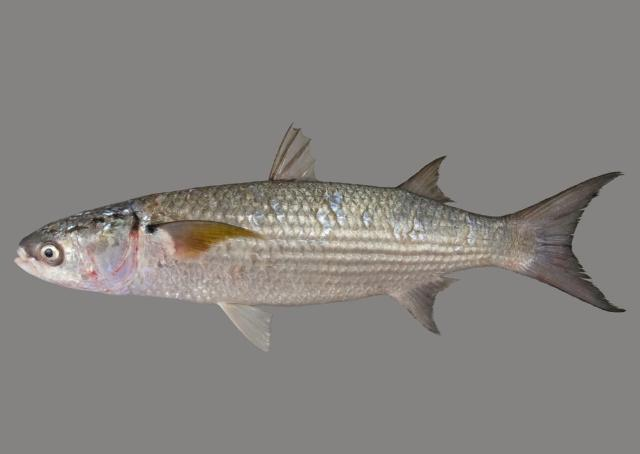Mulut: (7, 236, 57, 296)
Sirip Anal: (383, 268, 471, 350)
Sirip Dada: (152, 210, 268, 272)
Sirip Ekor: (533, 164, 635, 319)
Sirip Perut: (210, 292, 292, 368)
Sirip Punggung: (260, 118, 462, 208)
